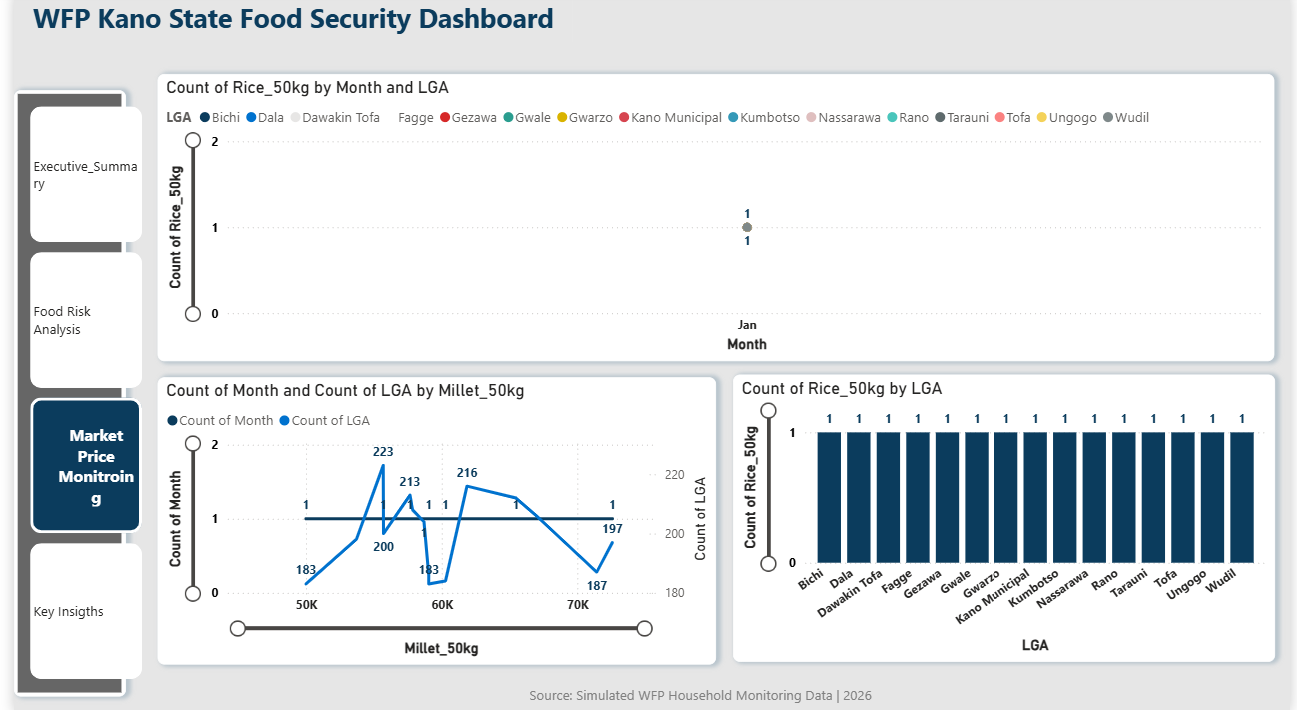

Layout of this report page (visuals, bound fields, positions):
{"tool":"powerbi","page":{"name":"Market Price Monitroing","canvas":[1280,720],"ordinal":2},"visuals":[{"type":"lineChart","fields":{"Series":["Market_Prices.LGA"],"Y":["CountNonNull(Market_Prices.Rice_50kg)"],"Category":["Market_Prices.Month"]},"box":[144,80,1120,288],"z":0},{"type":"lineChart","fields":{"Category":["Market_Prices.Millet_50kg"],"Y":["CountNonNull(Market_Prices.Month)"],"Y2":["CountNonNull(Household_Data.LGA)"]},"box":[144,384,560,288],"z":1000},{"type":"clusteredColumnChart","fields":{"Category":["Market_Prices.LGA"],"Y":["CountNonNull(Market_Prices.Rice_50kg)"]},"box":[720.6,381.6,544,288],"z":2000},{"type":"textbox","box":[0,0,560,48],"z":3000},{"type":"textbox","box":[512,688,368,32],"z":4000},{"type":"shape","box":[0,96,112,608],"z":5000},{"type":"pageNavigator","box":[16,112,112,576],"z":6000}]}

Visuals, with their boxes in screenshot pixels (x1, y1, x2, y2), scaled from the page's 1280x720 canvas onto the 1297x710 screenshot:
lineChart - Market_Prices.LGA x CountNonNull(Market_Prices.Rice_50kg): [146,79,1281,363]
lineChart - Market_Prices.Millet_50kg x CountNonNull(Market_Prices.Month): [146,379,713,663]
clusteredColumnChart - Market_Prices.LGA x CountNonNull(Market_Prices.Rice_50kg): [730,376,1281,660]
textbox: [0,0,567,47]
textbox: [519,678,892,709]
shape: [0,95,113,694]
pageNavigator: [16,110,130,678]
